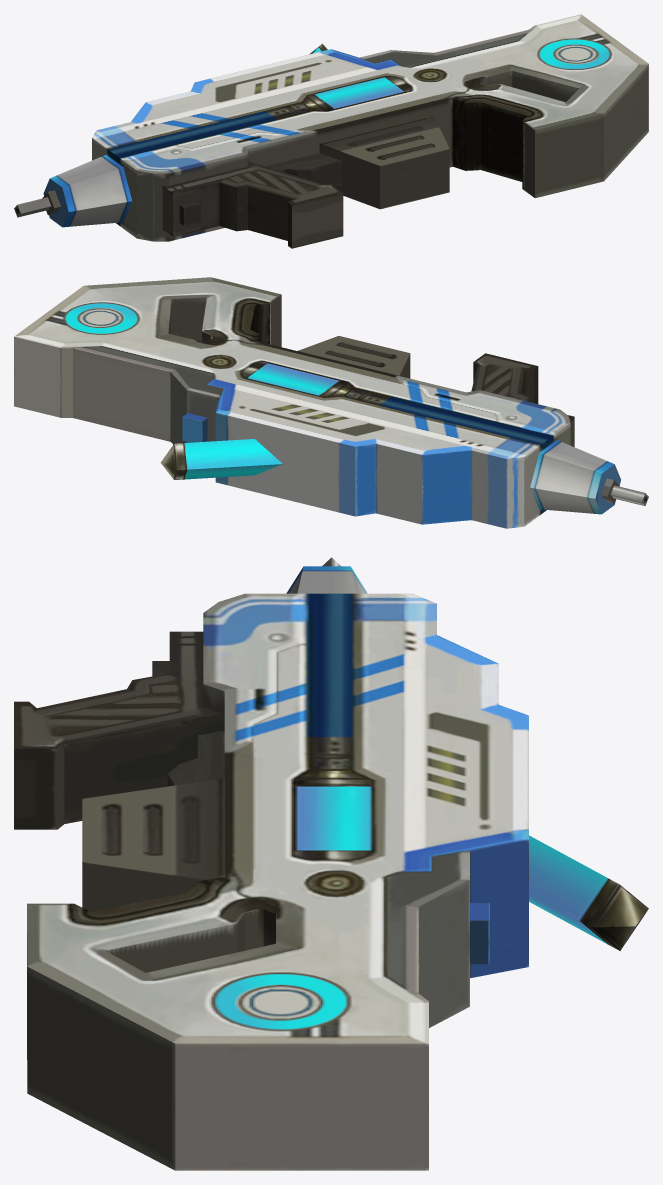
Rendered from weapon_laser.FBX.
3 renders of one model, top to bottom at view 1: azimuth 30°, elevation 25°; view 2: azimuth 150°, elevation 25°; view 3: azimuth 270°, elevation 25°, orthographic. The views are drawn at different scales.
Parts seen in each view (by area): view 1: weapon_laser; view 2: weapon_laser; view 3: weapon_laser.
Part boxes in pixels (x1,y1,x2,y2): weapon_laser: (14, 14, 648, 248); weapon_laser: (14, 277, 648, 528); weapon_laser: (14, 557, 648, 1170).
Size of the model in its own units: 119 by 13.09 by 59.33.
